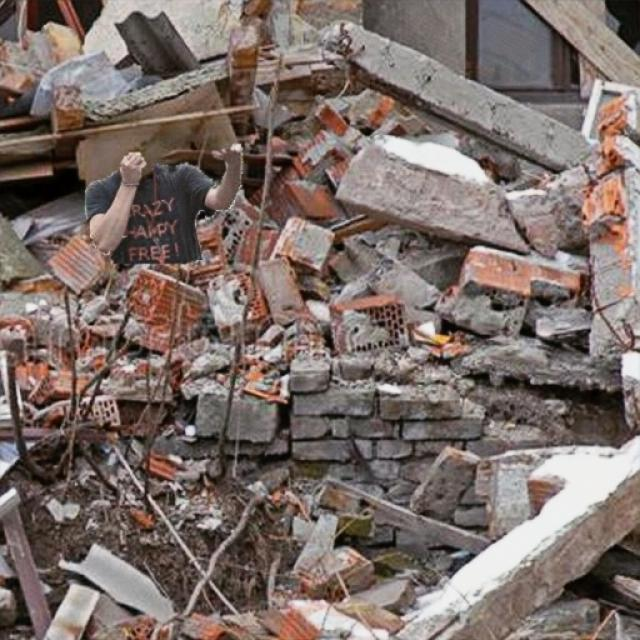Person in Rubble: (85, 144, 243, 262)
